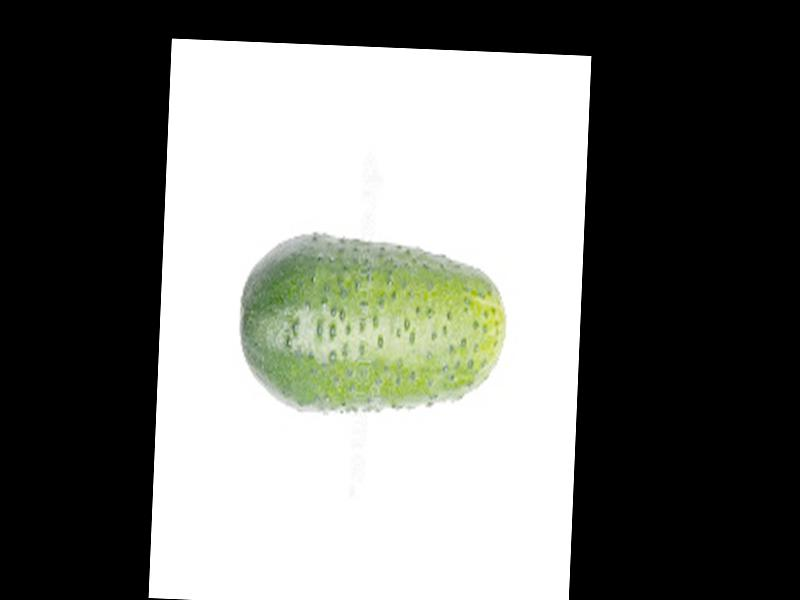Cucumber: (235, 229, 511, 423)
